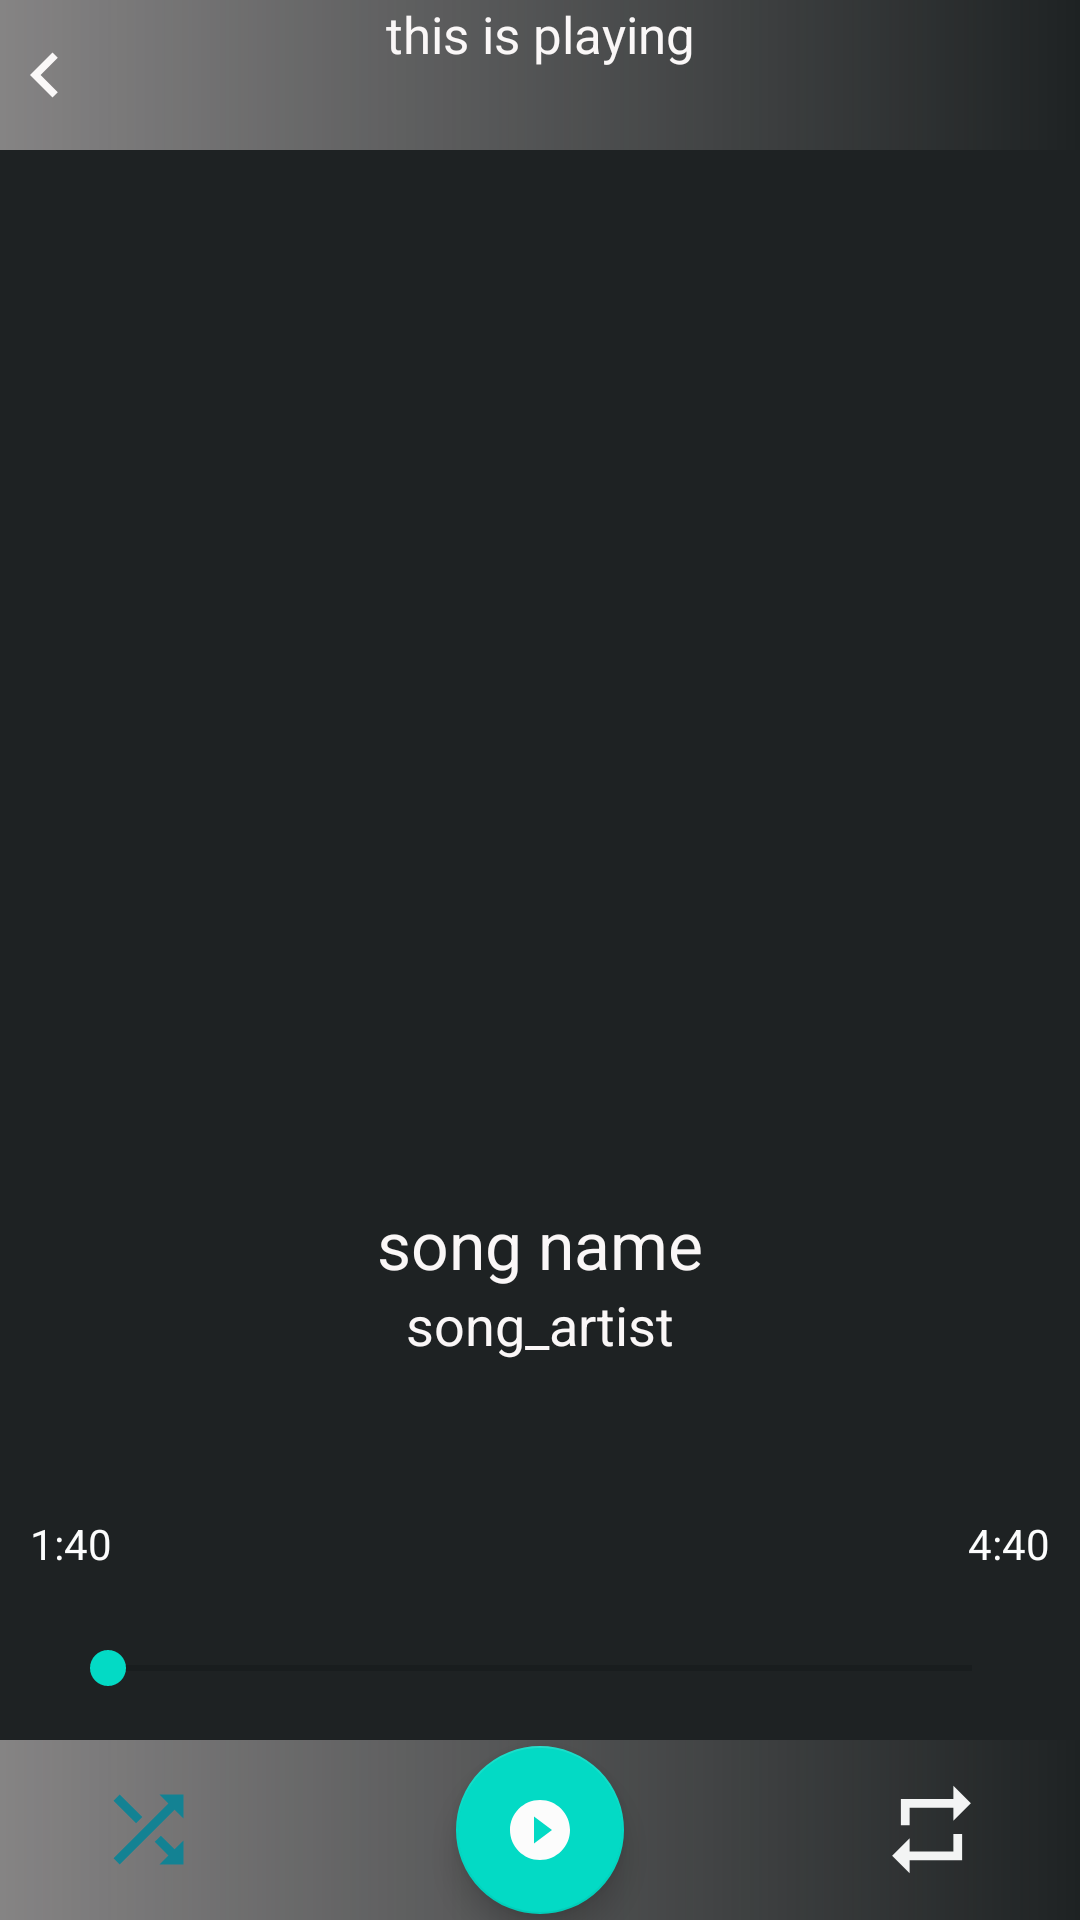

Named icons in this screenshot (1080x1920) and their bounding boxes, (x1, y1, x2, y2):
back: (30, 52, 58, 98)
play circle: (456, 1746, 624, 1914)
repeat: (892, 1786, 971, 1873)
shuffle on: (114, 1794, 184, 1865)
